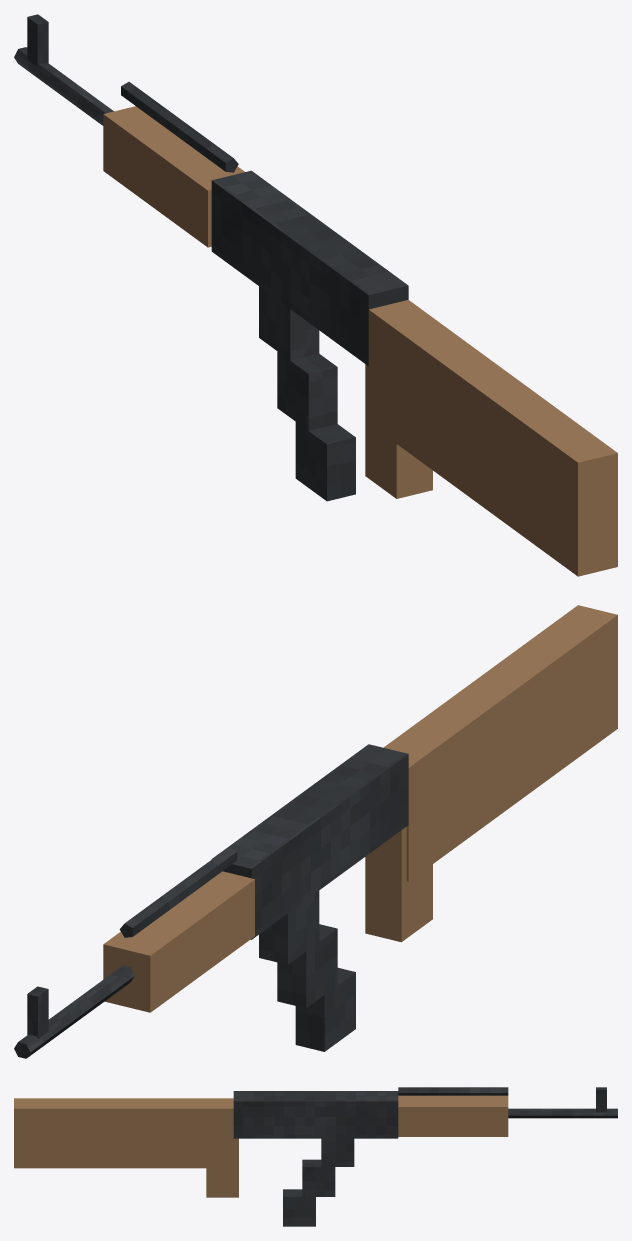
Rendered from rifle.glb.
3 views of the same model, one above another, from view 1: azimuth 30°, elevation 25°; view 2: azimuth 150°, elevation 25°; view 3: azimuth 270°, elevation 25° (orthographic). The views are drawn at different scales.
Visible parts, largest first — view 1: Gun_rifle; view 2: Gun_rifle; view 3: Gun_rifle.
Boxes of the visible parts, box(x1,y1,x2,y2) form: Gun_rifle: box(14, 14, 617, 576); Gun_rifle: box(14, 605, 617, 1058); Gun_rifle: box(14, 1087, 617, 1226).
Bounding box in the file's own units: 0.052 × 0.2726 × 1.1.
Materials: 2 (1 with a texture image).
